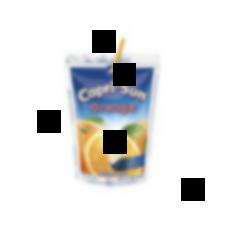cafrisun: (62, 51, 164, 190)
